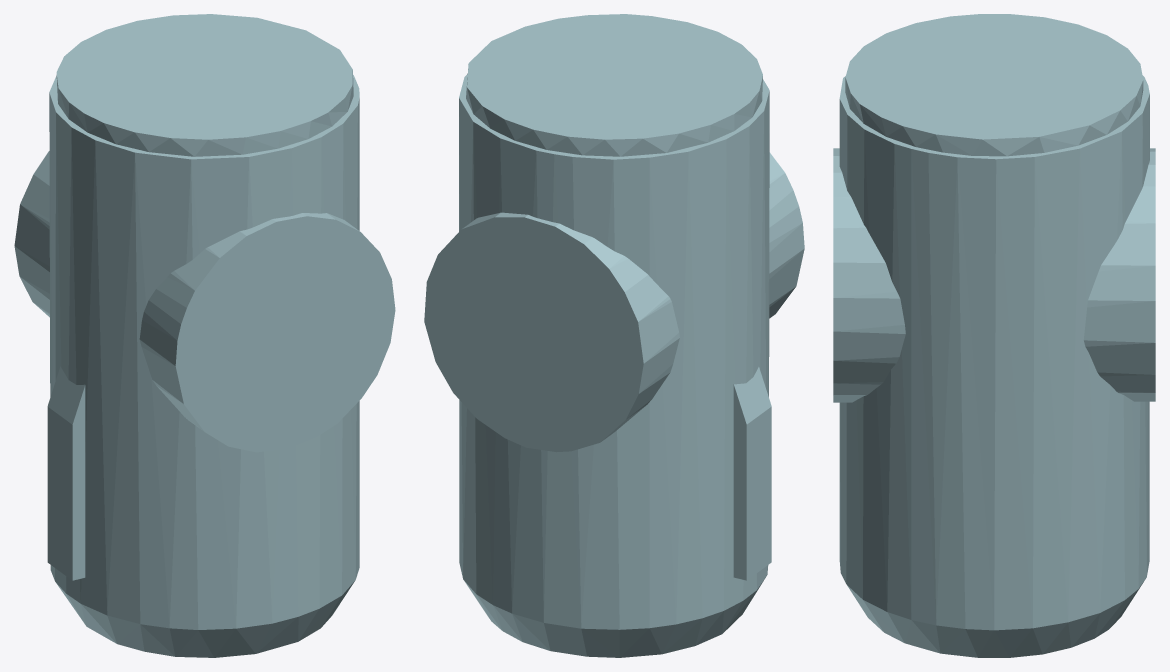
3 views of the same model, side by side, from view 1: azimuth 30°, elevation 25°; view 2: azimuth 150°, elevation 25°; view 3: azimuth 270°, elevation 25° (orthographic).
Parts seen in each view (by area): view 1: w2; view 2: w2; view 3: w2.
Boxes of the visible parts, box(x1,y1,x2,y2) form: w2: box(14, 14, 395, 657); w2: box(424, 14, 804, 657); w2: box(833, 14, 1155, 657).
Size of the model in its own units: 0.1031 by 0.103 by 0.1855.
